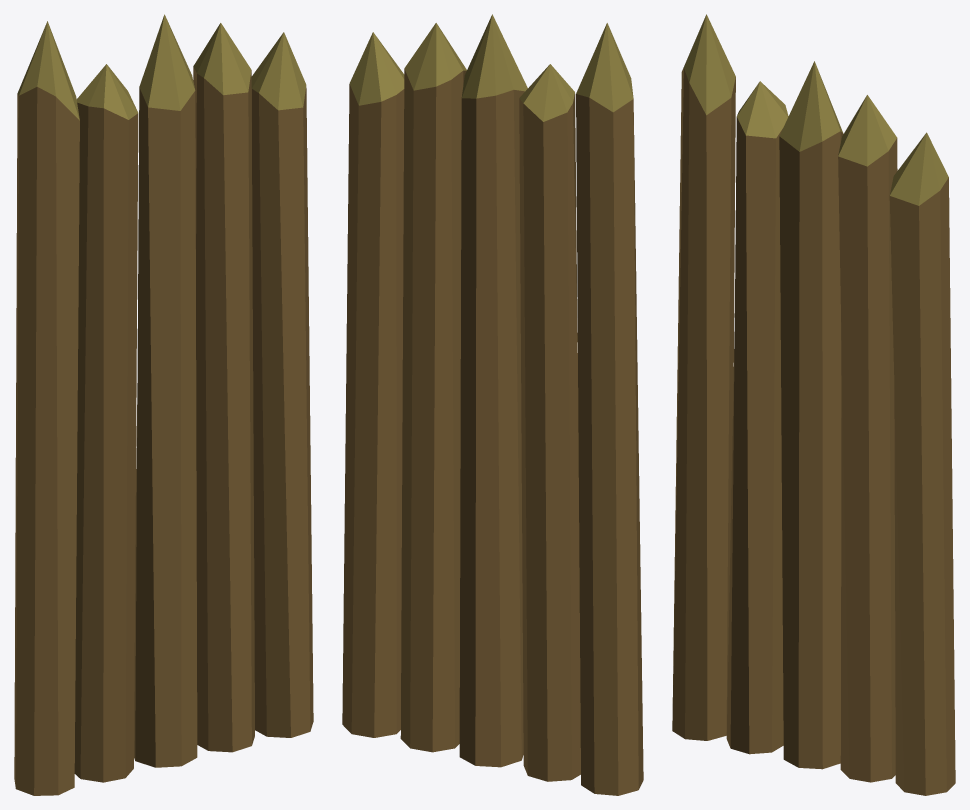
The model's file is Wall.fbx.
3 renders of one model, left to right at view 1: azimuth 30°, elevation 25°; view 2: azimuth 150°, elevation 25°; view 3: azimuth 330°, elevation 25°, orthographic. The views are drawn at different scales.
Parts seen in each view (by area): view 1: Cylinder.004, Cylinder, Cylinder.002, Cylinder.001, Cylinder.003; view 2: Cylinder.004, Cylinder, Cylinder.001, Cylinder.002, Cylinder.003; view 3: Cylinder, Cylinder.004, Cylinder.003, Cylinder.001, Cylinder.002.
Boxes of the visible parts, x1,y1,x2,y2 form: Cylinder.004: (14, 21, 79, 795); Cylinder: (134, 14, 197, 767); Cylinder.002: (74, 64, 138, 782); Cylinder.001: (193, 23, 254, 752); Cylinder.003: (251, 32, 313, 737); Cylinder.004: (576, 23, 643, 795); Cylinder: (459, 14, 527, 767); Cylinder.001: (400, 23, 466, 752); Cylinder.002: (519, 64, 580, 781); Cylinder.003: (342, 32, 404, 737); Cylinder: (779, 61, 843, 769); Cylinder.004: (672, 14, 735, 740); Cylinder.003: (889, 132, 955, 795); Cylinder.001: (838, 95, 897, 782); Cylinder.002: (726, 81, 788, 754).
Size of the model in its own units: 127 by 316 by 26.83.
